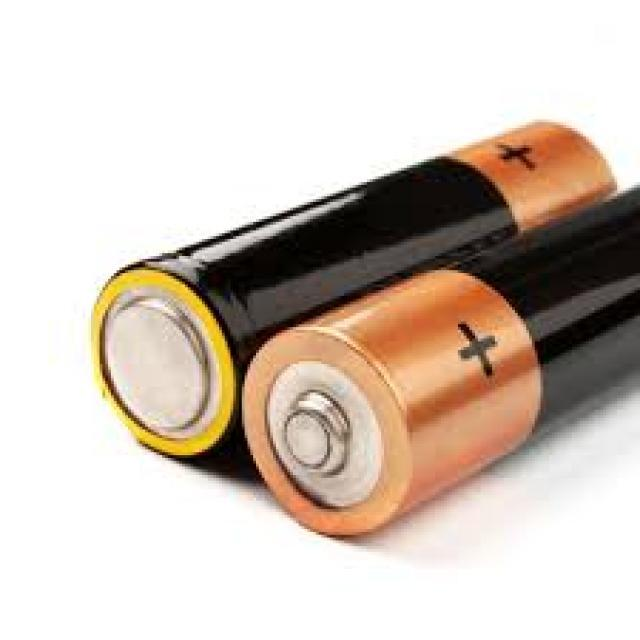battery: (83, 118, 614, 462), (237, 187, 640, 559)
